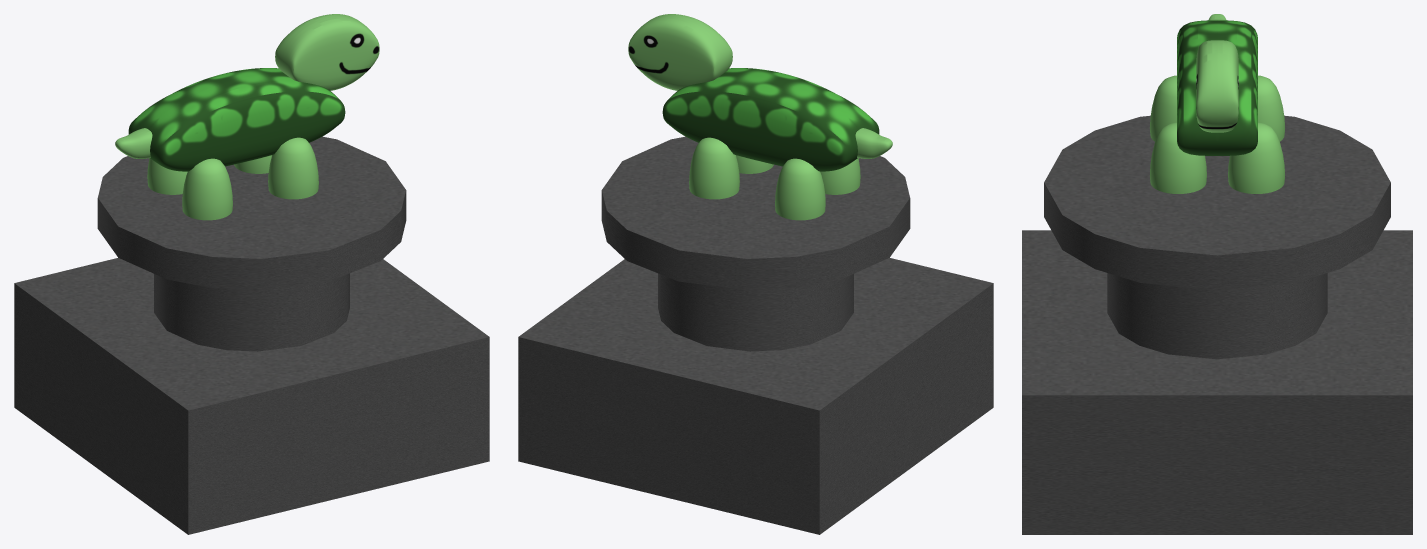
Rendered from turtlePillar.fbx.
3 views of the same model, side by side, from view 1: azimuth 30°, elevation 25°; view 2: azimuth 150°, elevation 25°; view 3: azimuth 270°, elevation 25° (orthographic). The views are drawn at different scales.
Visible parts, largest first — view 1: Pillar, Body, Legs; view 2: Pillar, Body, Legs; view 3: Pillar, Body, Legs.
Part boxes in pixels (<box>): Pillar: <box>14,136,489,534</box>; Body: <box>115,14,379,171</box>; Legs: <box>147,137,318,220</box>; Pillar: <box>518,136,993,534</box>; Body: <box>628,14,892,171</box>; Legs: <box>689,137,860,220</box>; Pillar: <box>1022,115,1412,534</box>; Body: <box>1177,14,1257,155</box>; Legs: <box>1150,75,1284,193</box>.
Bounding box in the file's own units: 200 × 252 × 200.
